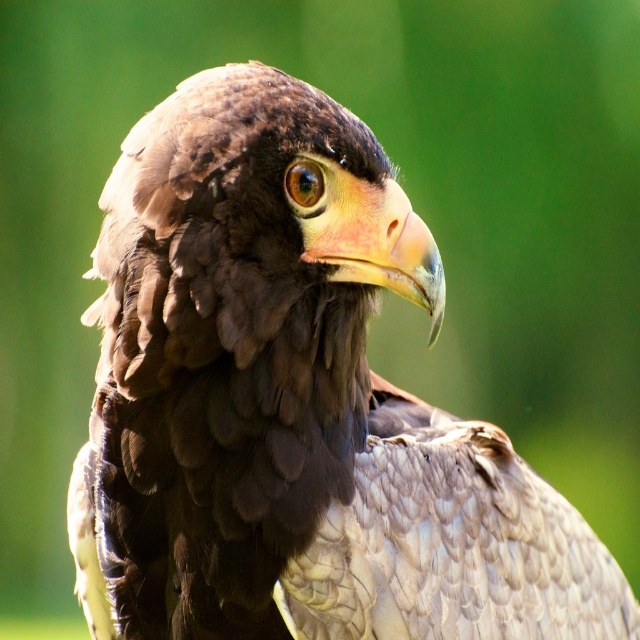Eagle: (60, 56, 640, 639)
